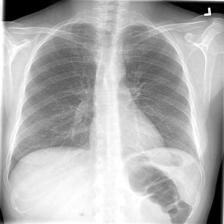normal: (6, 20, 205, 190)
